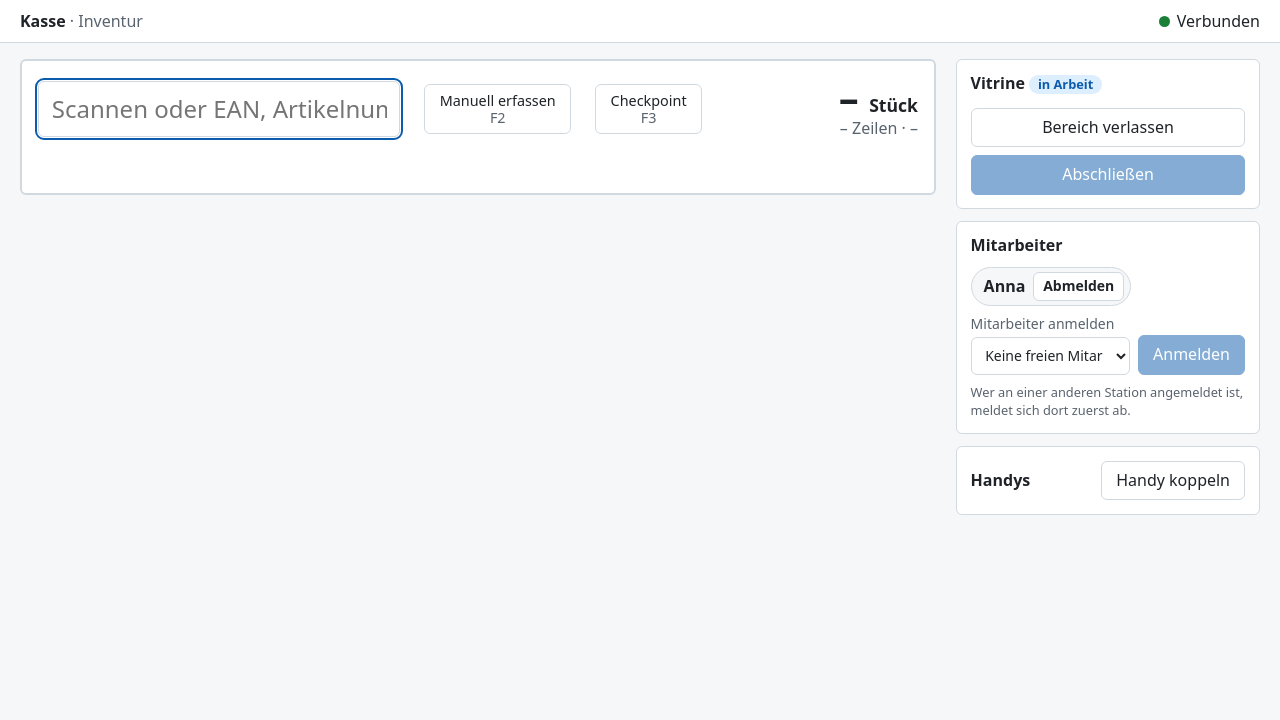
Test: capture › hints at an article captured again
Type "4000000000017" into the field named "Eingabe: EAN" at (219, 109), box x1=38 y1=81 x2=400 y2=137
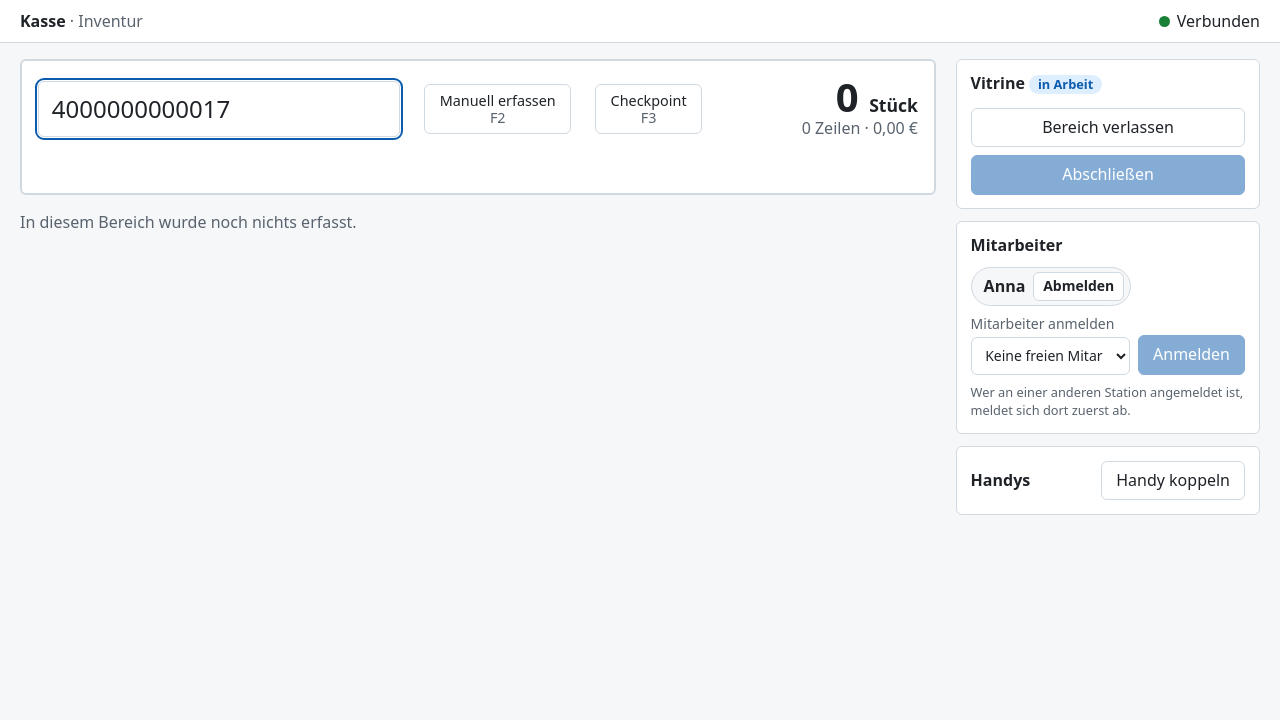
Press Enter in the field named "Eingabe: EAN", box x1=38 y1=81 x2=400 y2=137
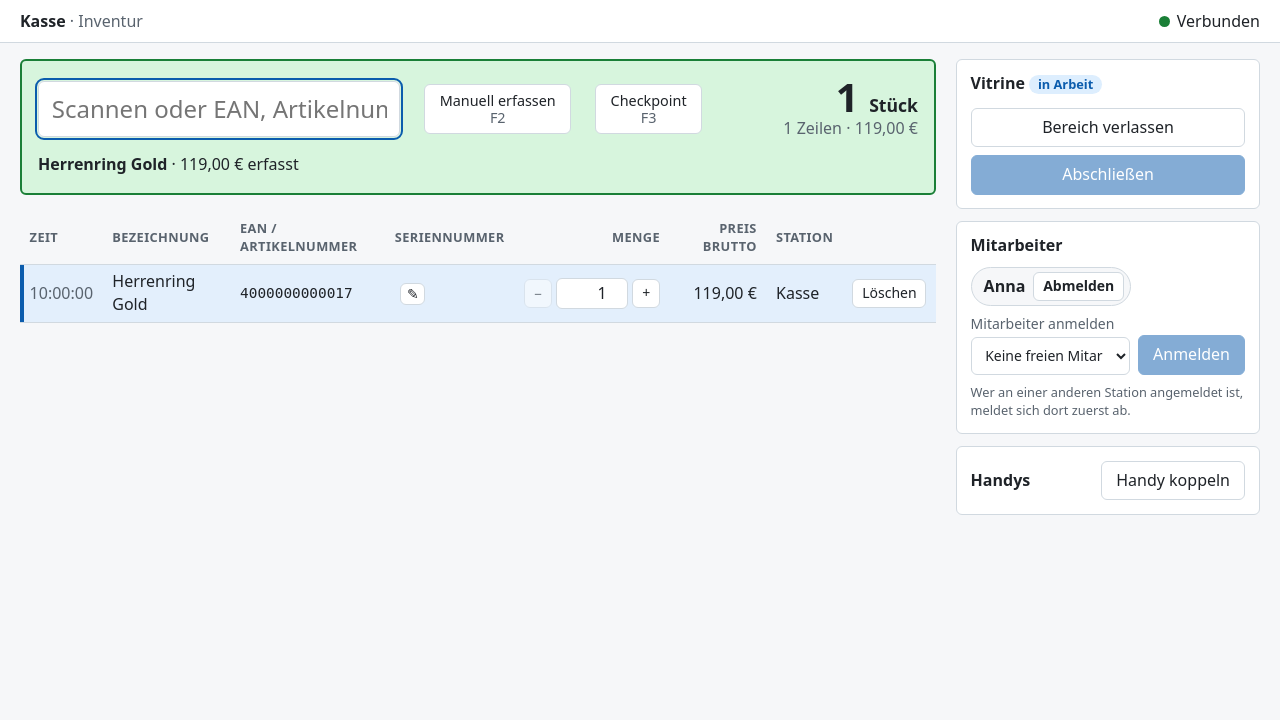
Expected: the element with class "capture-panel" has attribute data-feedback="unique", x1=20 y1=59 x2=936 y2=195
Type "4000000000017" into the field named "Eingabe: EAN" at (219, 109), box x1=38 y1=81 x2=400 y2=137
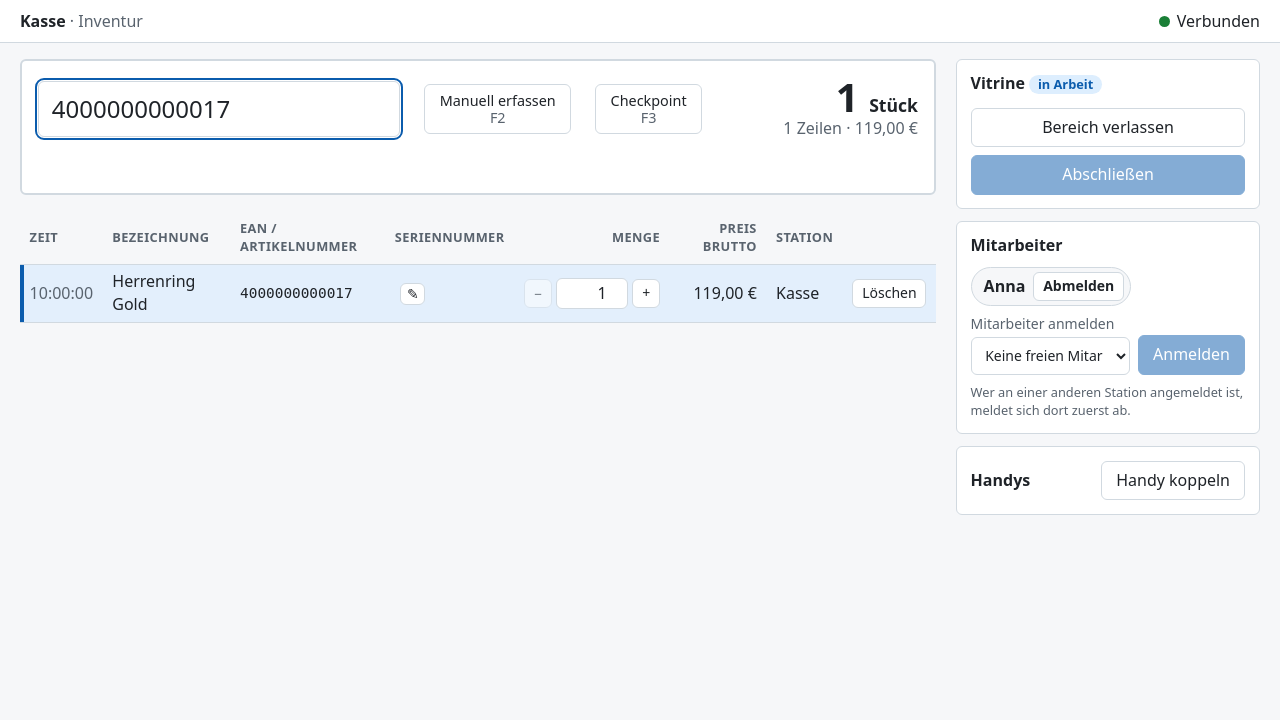
Press Enter in the field named "Eingabe: EAN", box x1=38 y1=81 x2=400 y2=137
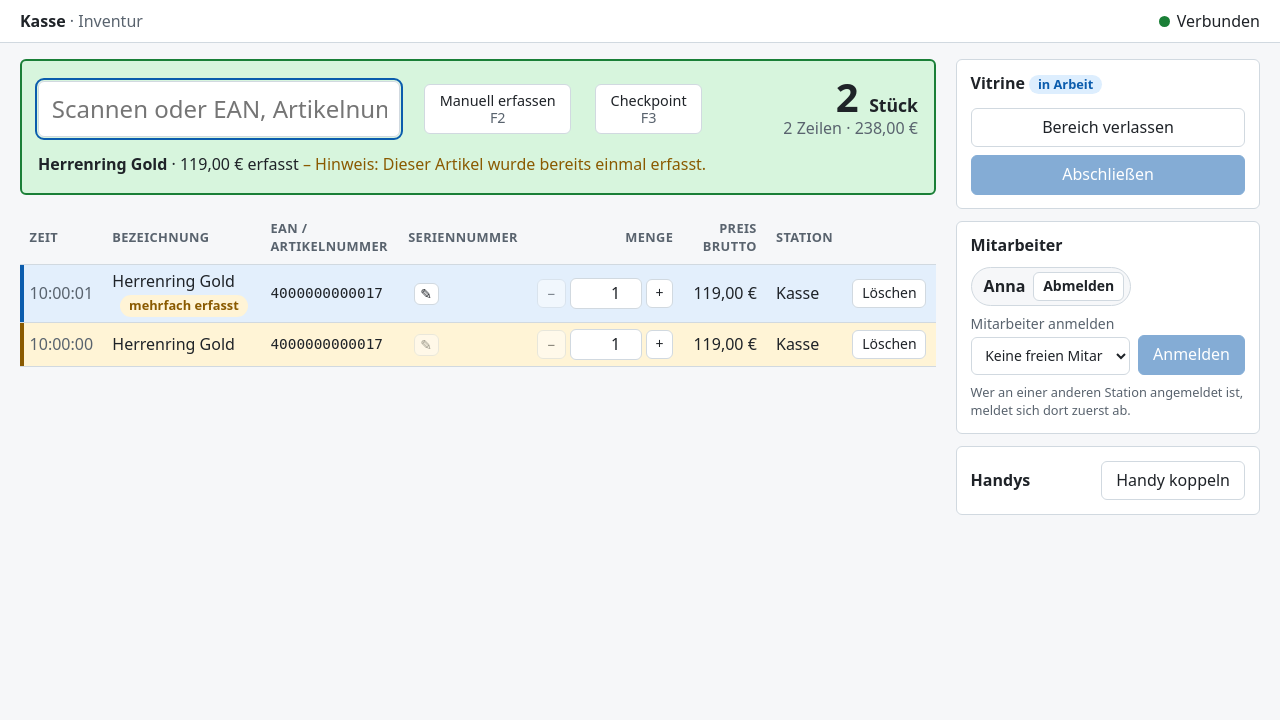
Expected: the text "– Hinweis: Dieser Artikel wurde bereits einmal erfasst." is shown, x1=299 y1=153 x2=706 y2=175
Expected: the text "mehrfach erfasst" is shown, x1=120 y1=295 x2=248 y2=316
